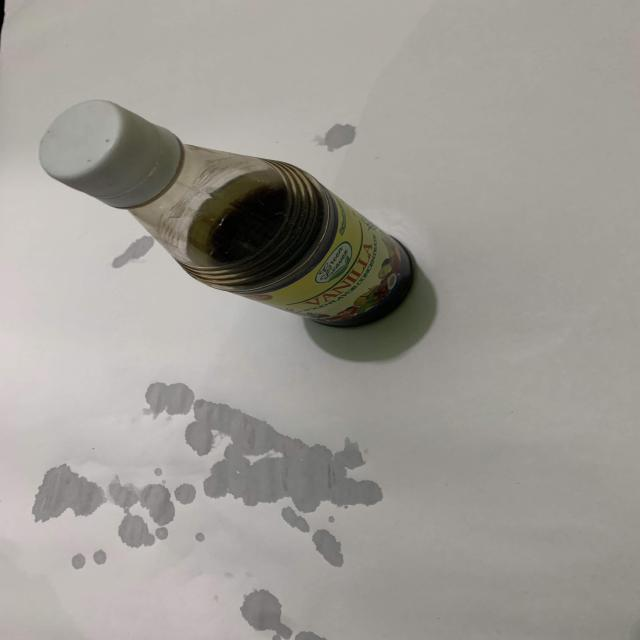bottle: (29, 92, 413, 328)
